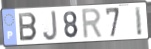7: (105, 7, 121, 39)
8: (63, 10, 80, 39)
B: (17, 12, 38, 42)
I: (134, 5, 144, 38)
J: (42, 9, 59, 42)
R: (81, 7, 104, 41)
